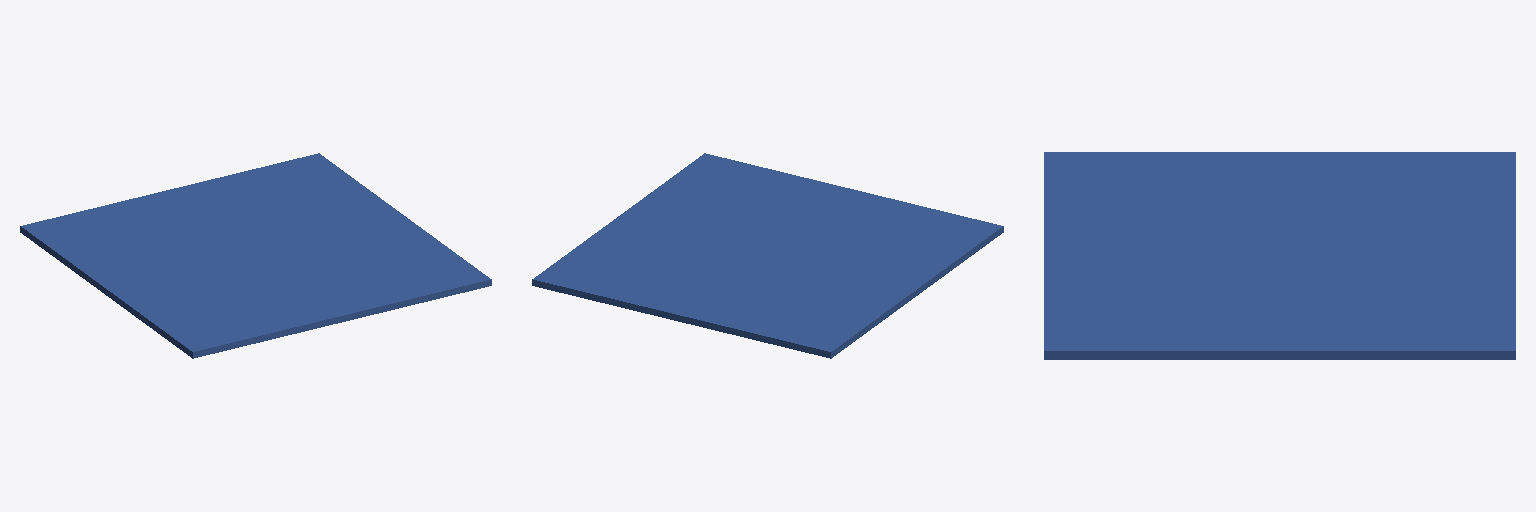
The robot description file, URDF, robot "ground_skeleton":
<?xml version="1.0"?>
<robot name="ground_skeleton">
    <link name="world" />
    <link name="ground_link">
        <inertial>
            <mass value="1.0" />
            <origin xyz="0 0 0" rpy="0 0 0" />
            <inertia ixx="1.0" ixy="0" ixz="0" iyy="1.0" iyz="0" izz="1.0" />
        </inertial>
        <visual>
            <origin xyz="0 0 0" rpy="0 0 0" />
            <geometry>
                <box size="2.4 2.4 0.05" />
            </geometry>
            <material name="NavyBlue">
              <color rgba="0.3 0.43 0.66 1.0"/>
            </material>
        </visual>
        <collision group="default">
            <origin xyz="0 0 0" rpy="0 0 0" />
            <geometry>
                <box size="2.4 2.4 0.05" />
            </geometry>
        </collision>
    </link>
    <joint name="ground_joint" type="fixed">
        <origin xyz="0 0 -0.027" rpy="0 0 0" />
        <parent link="world" />
        <child link="ground_link" />
    </joint>
</robot>

--- Render facts (derived) ---
Views: 3 orthographic renders of the robot side by side, from view 1: azimuth 30°, elevation 25°; view 2: azimuth 150°, elevation 25°; view 3: azimuth 270°, elevation 25°.
Robot: ground_skeleton — 2 links, 1 joints (1 fixed); root link world; default pose: all joints at 0.
Links seen in each view (by area): view 1: ground_link; view 2: ground_link; view 3: ground_link.
Boxes of the visible links, x1,y1,x2,y2 form: ground_link: (20,153,491,358); ground_link: (532,153,1003,358); ground_link: (1044,152,1515,359).
Size in the robot's own frame: 2.4 by 2.4 by 0.05 metres.
Geometry: primitives only (box / cylinder / sphere), no mesh files.